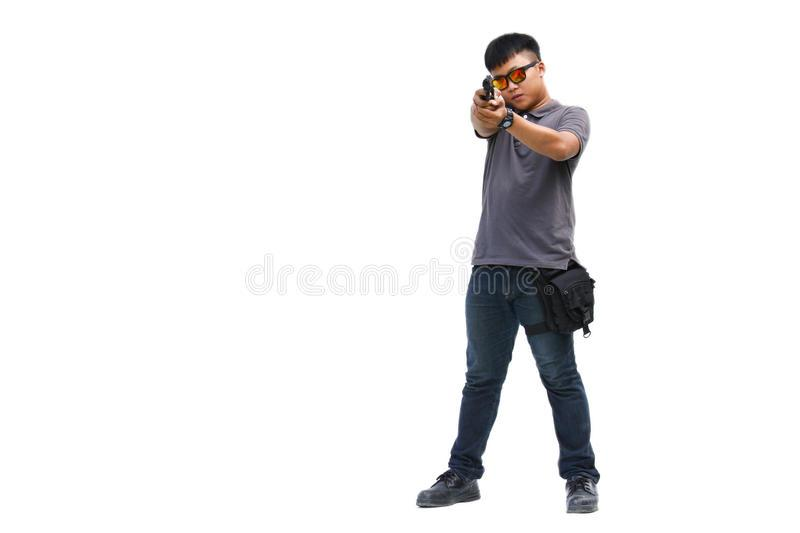criminal: (414, 30, 600, 515)
weapon: (477, 75, 500, 108)
